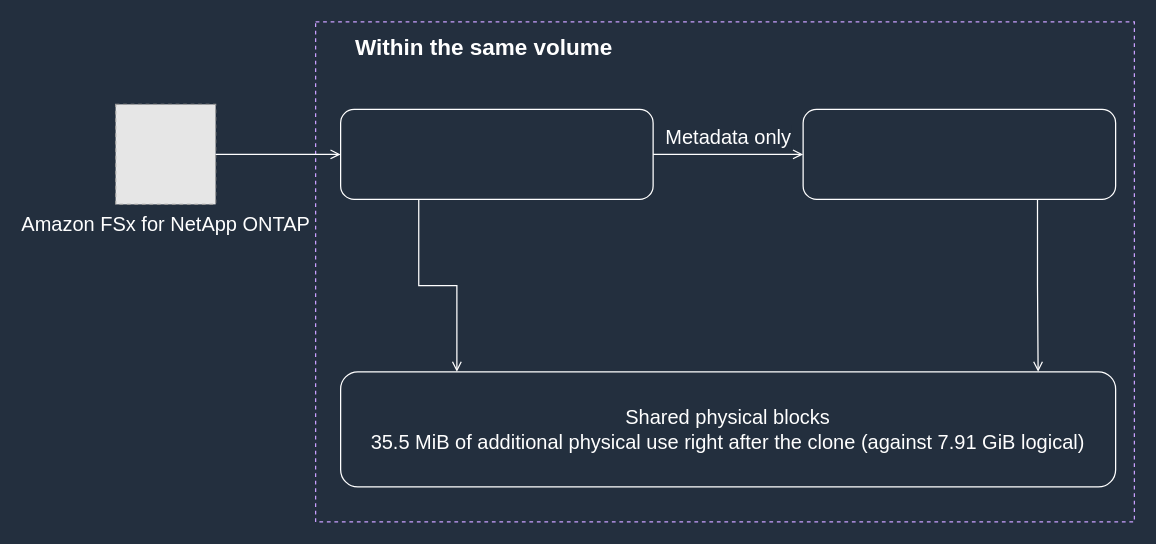
Image size: 1156x544. Some labels were removed from this diagram. Grey dashed boxes stand in for pictures. Here are the shapes that lost their labels. From the top down, the centre of each, then its label:
At (496,153): "Original (VMDK)".
At (959,153): "FlexClone (converted / iSCSI LUN)".
